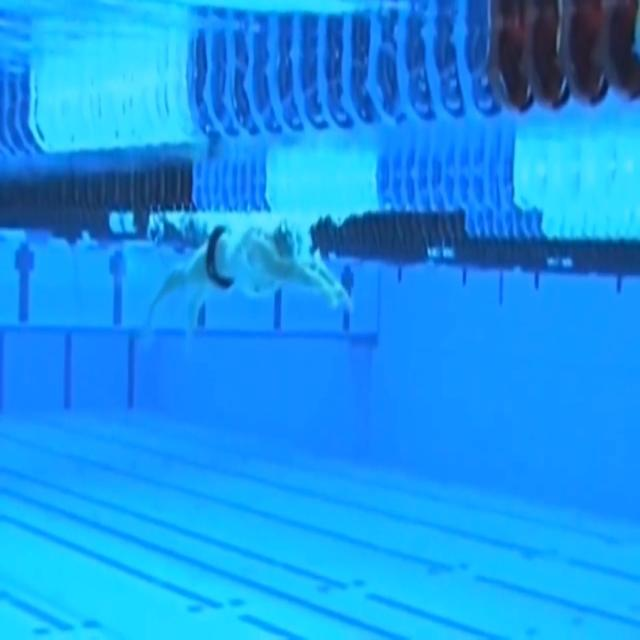Swimming: (147, 212, 353, 332)
